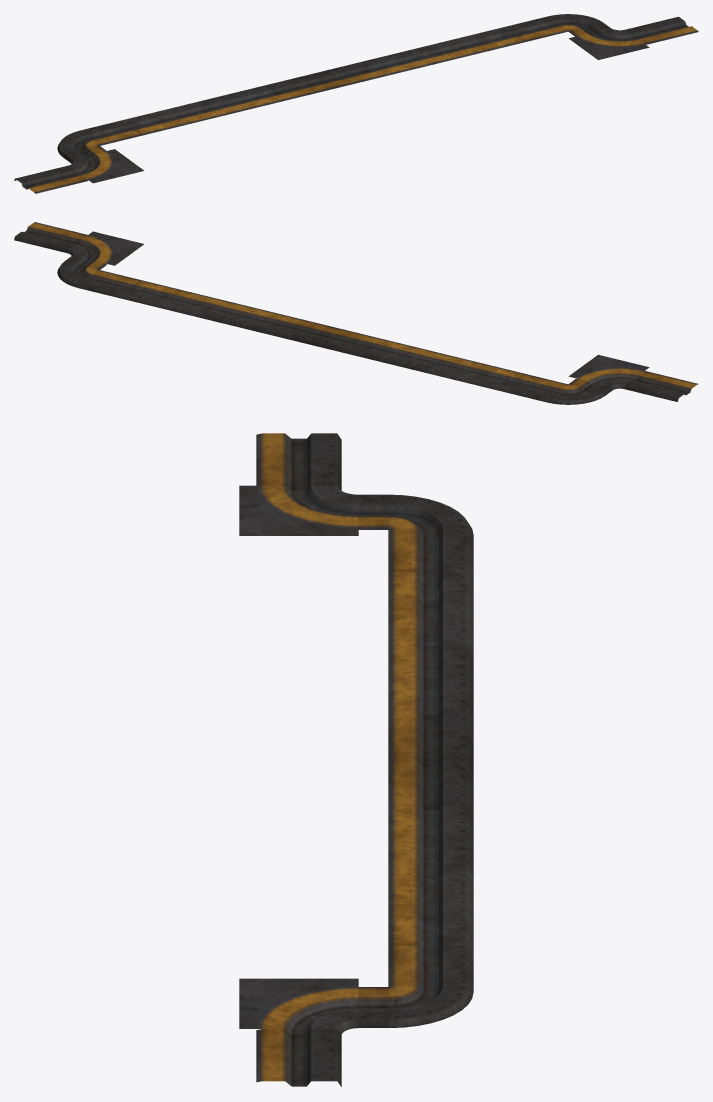
Rendered from lab_floor_welder_windowpillar.dae.
The picture shows the model from 3 angles, top to bottom: view 1: azimuth 30°, elevation 25°; view 2: azimuth 150°, elevation 25°; view 3: azimuth 270°, elevation 25°; orthographic projection. The views are drawn at different scales.
Visible parts, largest first — view 1: floor_welder_windowpillar; view 2: floor_welder_windowpillar; view 3: floor_welder_windowpillar.
Part boxes in pixels (<box>): floor_welder_windowpillar: <box>14,14,698,193</box>; floor_welder_windowpillar: <box>14,222,698,404</box>; floor_welder_windowpillar: <box>239,433,473,1086</box>.
Size of the model in its own units: 5.62 by 0.0254 by 0.8594.
